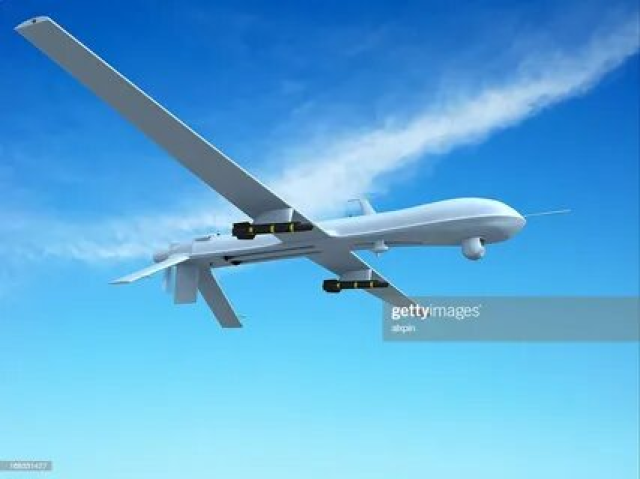military drone: (13, 13, 571, 328)
